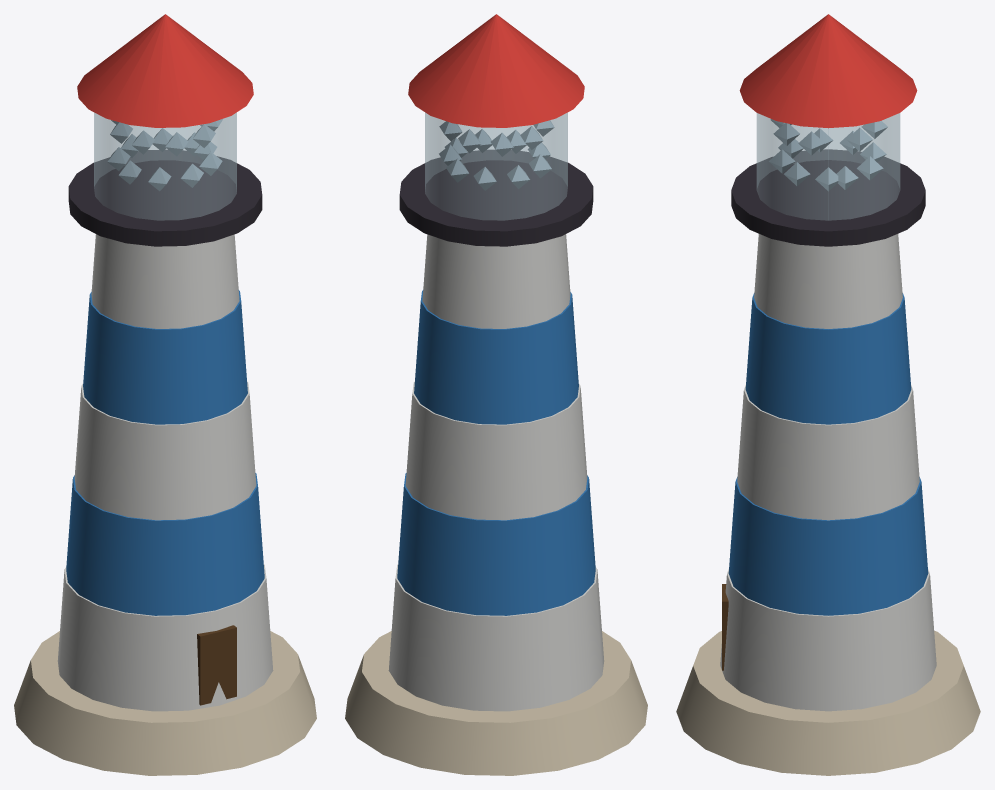
Rendered from lighthouse.glb.
The picture shows the model from 3 angles, left to right: view 1: azimuth 30°, elevation 25°; view 2: azimuth 150°, elevation 25°; view 3: azimuth 270°, elevation 25°; orthographic projection.
Parts seen in each view (by area): view 1: part_000, part_001; view 2: part_000, part_001; view 3: part_000, part_001.
Part boxes in pixels (x1=…): part_000: x1=14, y1=14, x2=316, y2=775; part_001: x1=94, y1=112, x2=236, y2=220; part_000: x1=345, y1=14, x2=647, y2=775; part_001: x1=425, y1=112, x2=567, y2=220; part_000: x1=676, y1=14, x2=980, y2=775; part_001: x1=756, y1=113, x2=900, y2=220.
Size of what is drawn, in the model's own units: 3.6 by 9.1 by 3.6.
